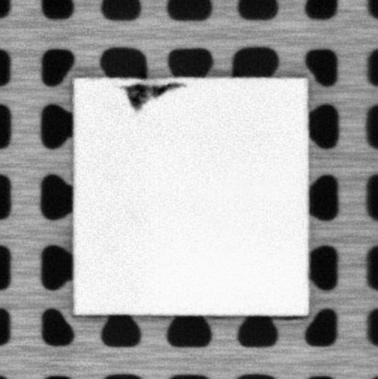DIE_INK: (121, 82, 186, 112)
